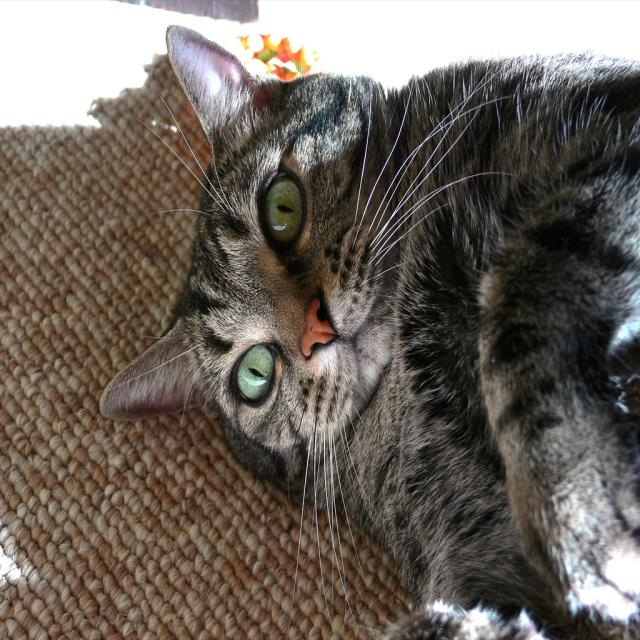left eye: (258, 168, 308, 250)
